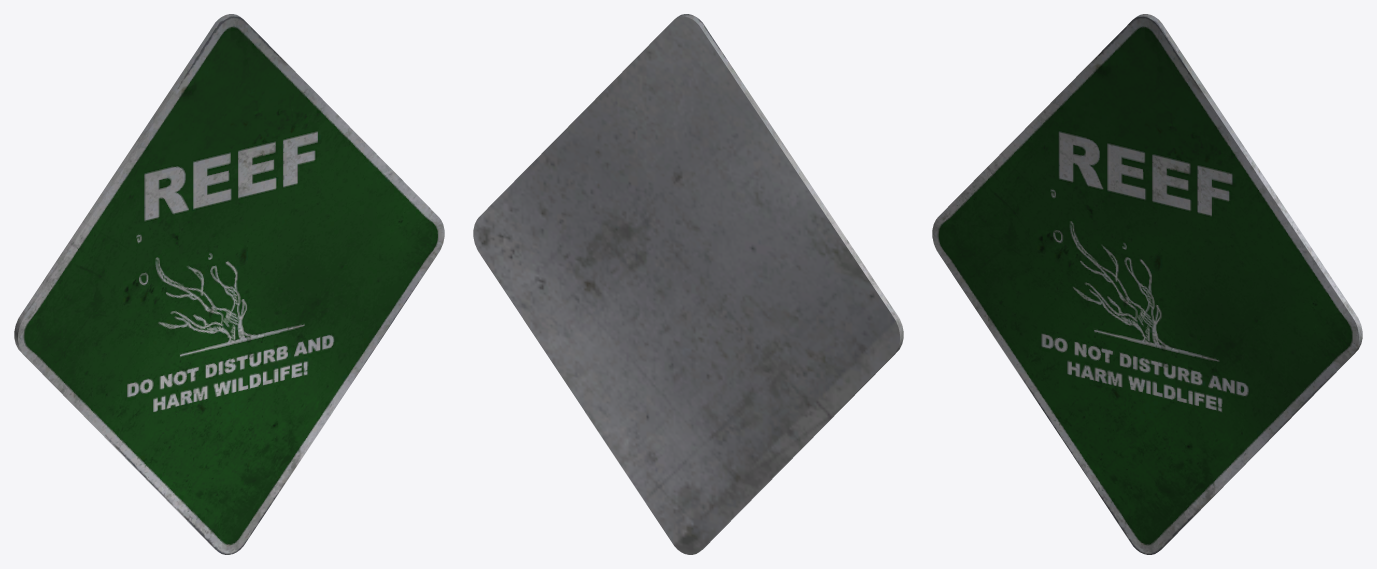
Rendered from sign_outside_reef.dae.
The picture shows the model from 3 angles, left to right: view 1: azimuth 30°, elevation 25°; view 2: azimuth 150°, elevation 25°; view 3: azimuth 330°, elevation 25°; orthographic projection.
Parts seen in each view (by area): view 1: sign_outside_reef; view 2: sign_outside_reef; view 3: sign_outside_reef.
Boxes of the visible parts, bbox=[...] form: sign_outside_reef: bbox=[14, 14, 444, 554]; sign_outside_reef: bbox=[473, 14, 903, 554]; sign_outside_reef: bbox=[932, 14, 1362, 554].
Bounding box in the file's own units: 0.4147 × 0.4991 × 0.00614.
Materials: 1 (1 with a texture image).
